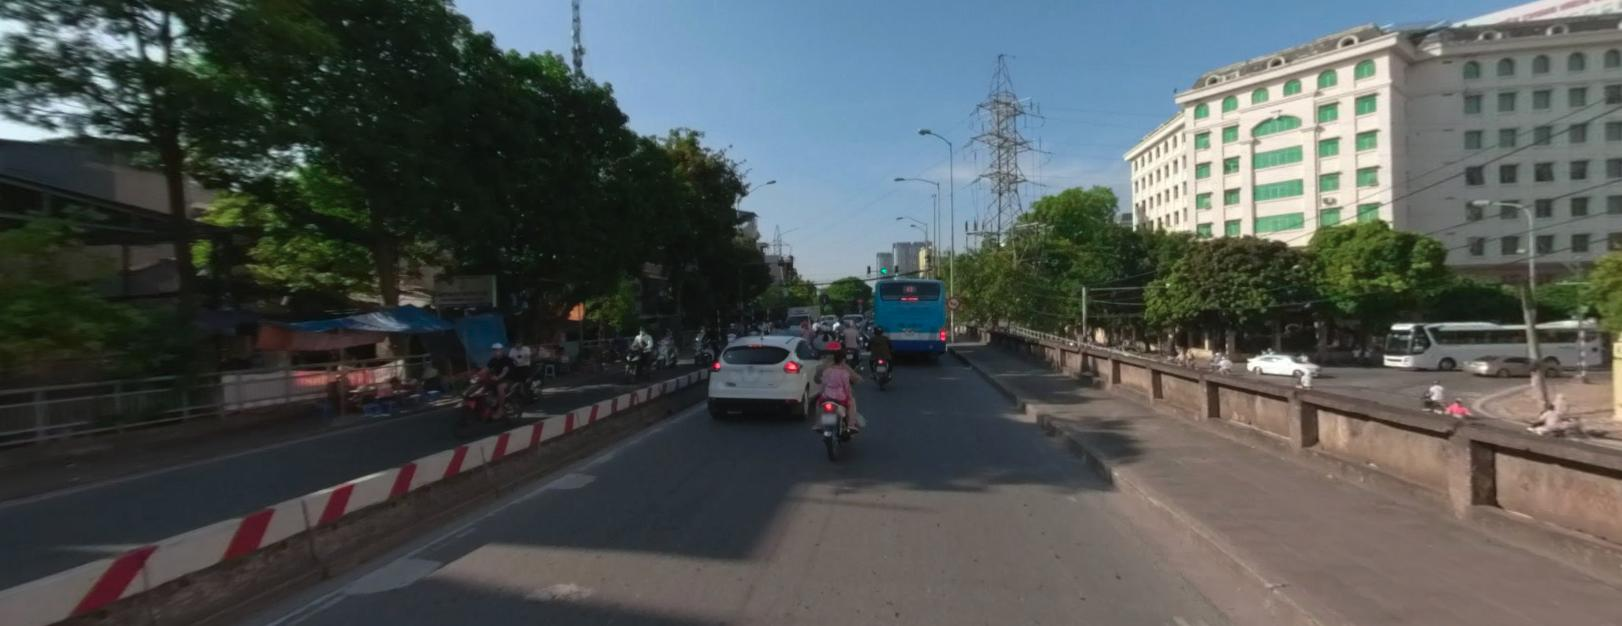Cam con lai: (947, 295, 960, 308)
